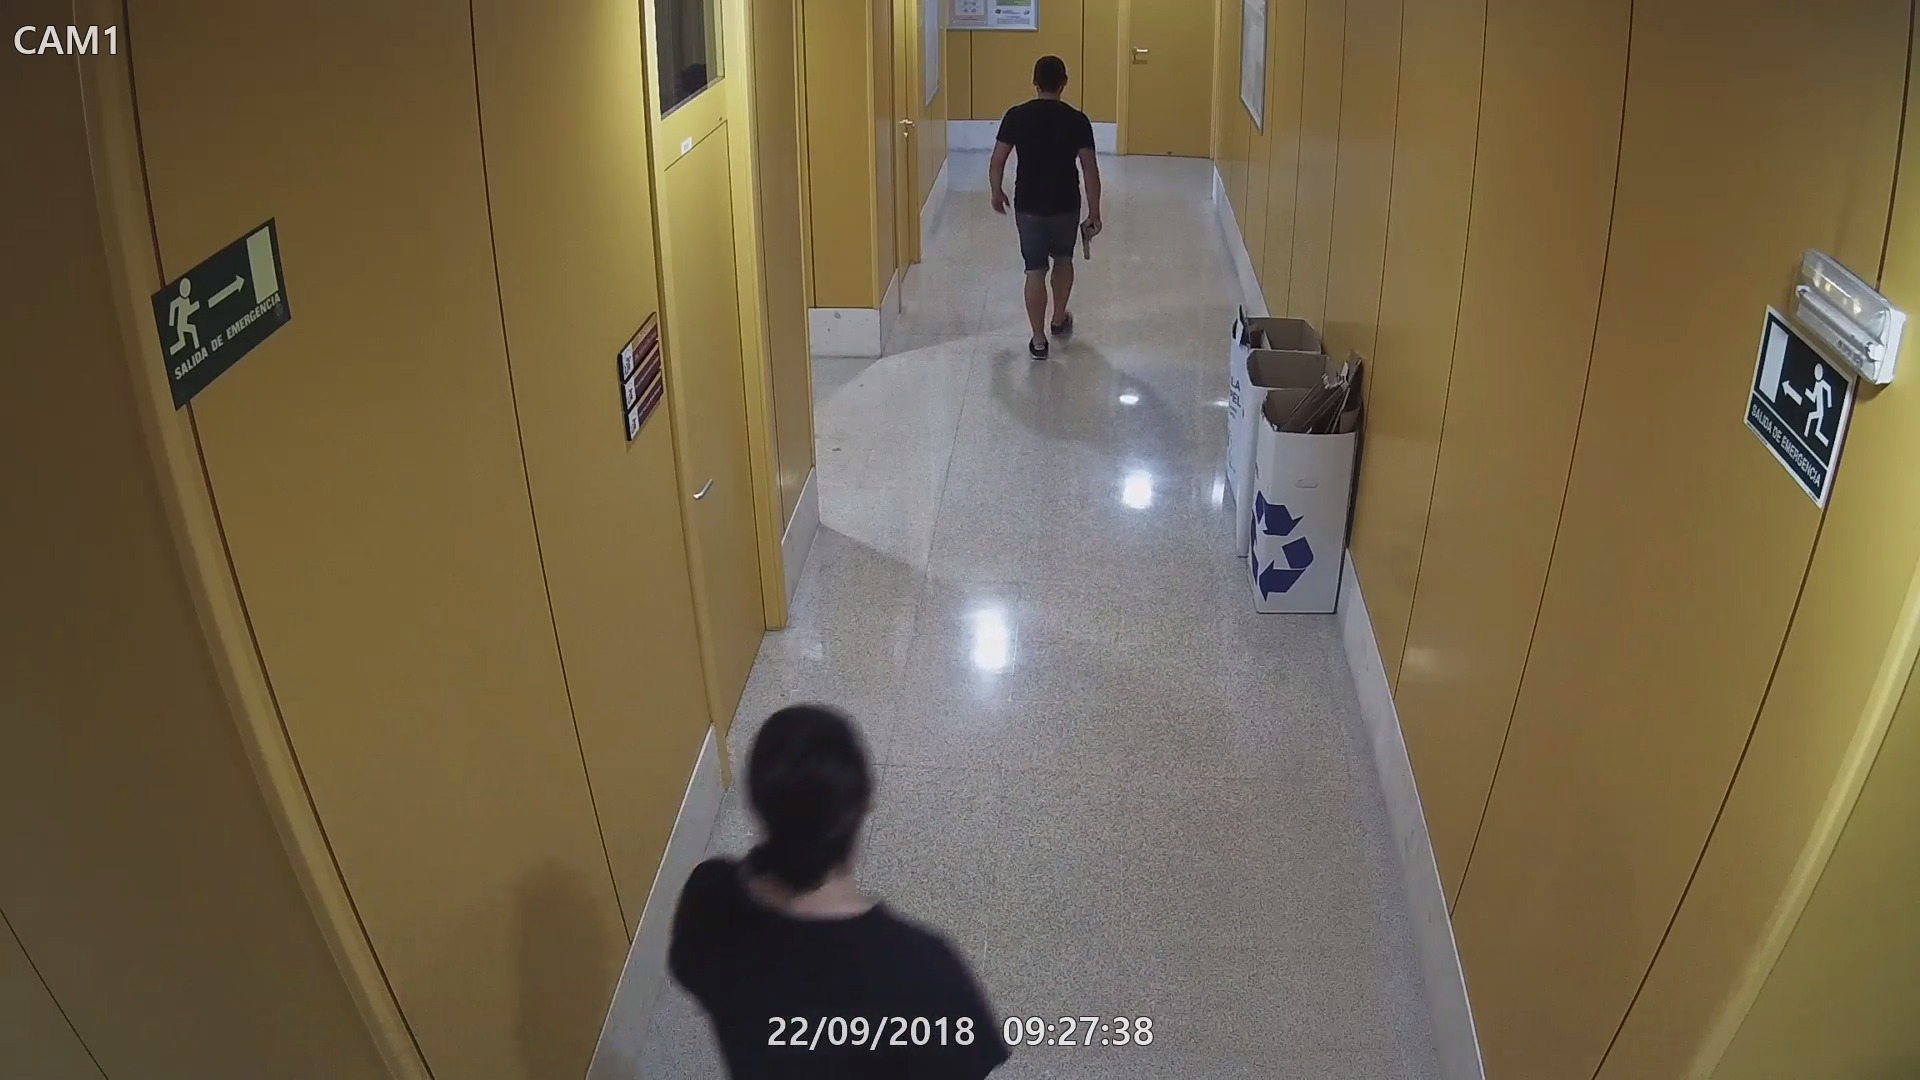Handgun: (1079, 216, 1106, 261)
